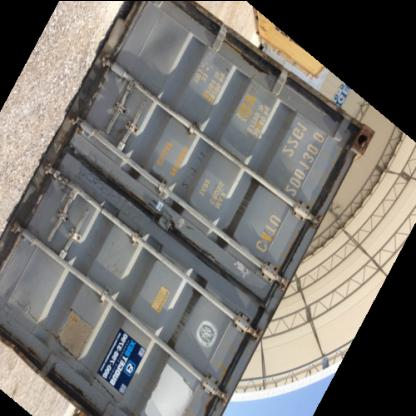Damage: (10, 294, 120, 402), (70, 154, 150, 218), (210, 30, 286, 81), (174, 144, 214, 198), (207, 340, 233, 414), (169, 299, 201, 349), (342, 118, 374, 160)
